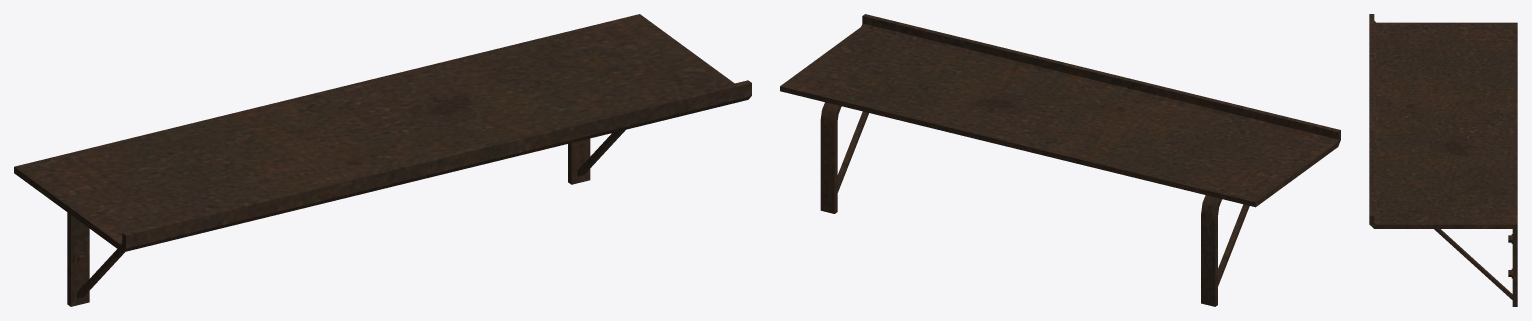
File: hanging_shelf_mx_1.dae
The picture shows the model from 3 angles, left to right: view 1: azimuth 30°, elevation 25°; view 2: azimuth 150°, elevation 25°; view 3: azimuth 270°, elevation 25°; orthographic projection. The views are drawn at different scales.
Parts seen in each view (by area): view 1: hanging_shelf_mx_1; view 2: hanging_shelf_mx_1; view 3: hanging_shelf_mx_1.
Boxes of the visible parts, x1=… form: hanging_shelf_mx_1: x1=14, y1=14, x2=751, y2=306; hanging_shelf_mx_1: x1=780, y1=14, x2=1340, y2=306; hanging_shelf_mx_1: x1=1369, y1=14, x2=1517, y2=306.
Bounding box in the file's own units: 1 × 0.31 × 0.25.
1 material, 1 textured.
